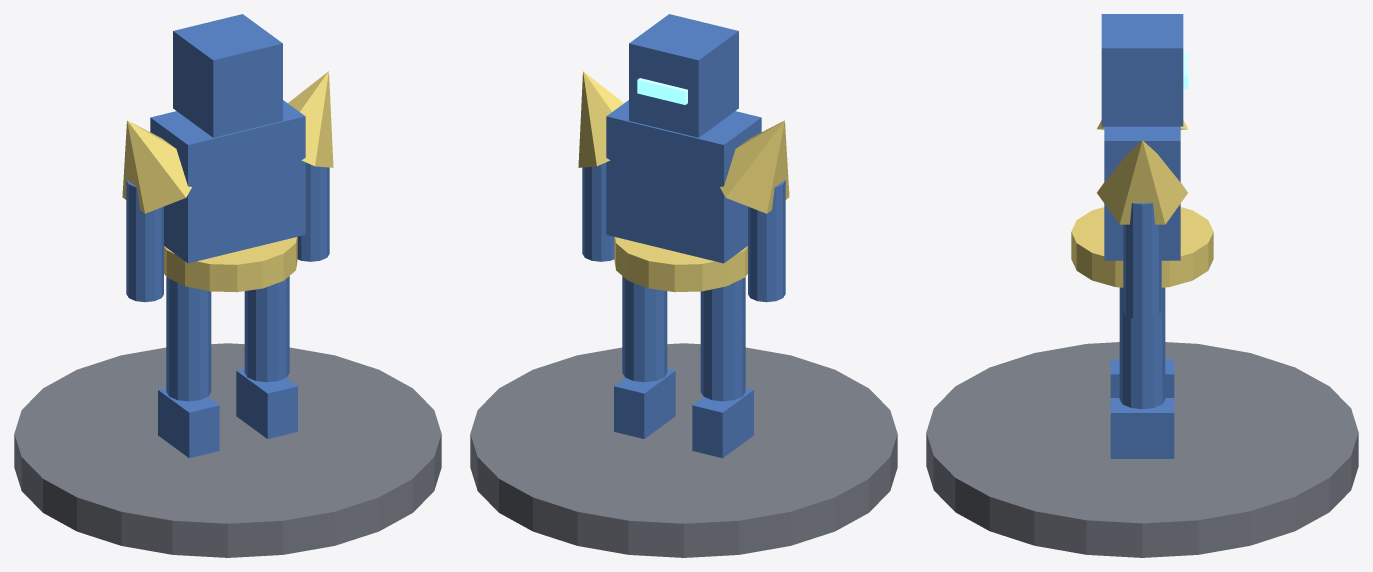
File: armor_set_legendary.glb
3 views of the same model, side by side, from view 1: azimuth 30°, elevation 25°; view 2: azimuth 150°, elevation 25°; view 3: azimuth 270°, elevation 25° (orthographic).
Parts seen in each view (by area): view 1: Cylinder, Cube.002, Cube.003, Cylinder.001, Cylinder.003, Cylinder.002, Cone, Cylinder.004, Cube, Cube.001, Cylinder.005, Cone.001; view 2: Cylinder, Cube.002, Cube.003, Cylinder.001, Cylinder.003, Cylinder.002, Cone, Cylinder.004, Cube, Cube.001, Cylinder.005, Cone.001 (+1 smaller); view 3: Cylinder, Cube.003, Cylinder.003, Cylinder.002, Cube.002, Cone.001, Cylinder.005, Cube.001, Cube.
Boxes of the visible parts, x1,y1,x2,y2 form: Cylinder: (14, 343, 441, 557); Cube.002: (150, 100, 305, 263); Cube.003: (173, 14, 282, 137); Cylinder.001: (166, 277, 211, 401); Cylinder.003: (164, 237, 297, 292); Cylinder.002: (244, 276, 289, 382); Cone: (122, 120, 191, 213); Cylinder.004: (126, 180, 163, 302); Cube: (158, 388, 219, 458); Cube.001: (236, 368, 297, 438); Cylinder.005: (297, 162, 329, 261); Cone.001: (288, 71, 333, 167); Cylinder: (470, 343, 897, 557); Cube.002: (606, 100, 761, 263); Cube.003: (629, 14, 738, 137); Cylinder.001: (700, 277, 745, 401); Cylinder.003: (614, 237, 747, 292); Cylinder.002: (622, 276, 667, 382); Cone: (720, 120, 789, 213); Cylinder.004: (748, 180, 785, 302); Cube: (692, 388, 753, 458); Cube.001: (614, 368, 675, 438); Cylinder.005: (582, 162, 614, 261); Cone.001: (578, 71, 623, 167); Cylinder: (926, 342, 1358, 557); Cube.003: (1101, 14, 1183, 126); Cylinder.003: (1071, 207, 1213, 287); Cylinder.002: (1119, 287, 1165, 409); Cube.002: (1104, 126, 1180, 260); Cone.001: (1097, 140, 1187, 224); Cylinder.005: (1123, 203, 1161, 319); Cube.001: (1110, 398, 1174, 458); Cube: (1110, 359, 1174, 397).
Bounding box in the file's own units: 1.7 × 1.89 × 1.7.
